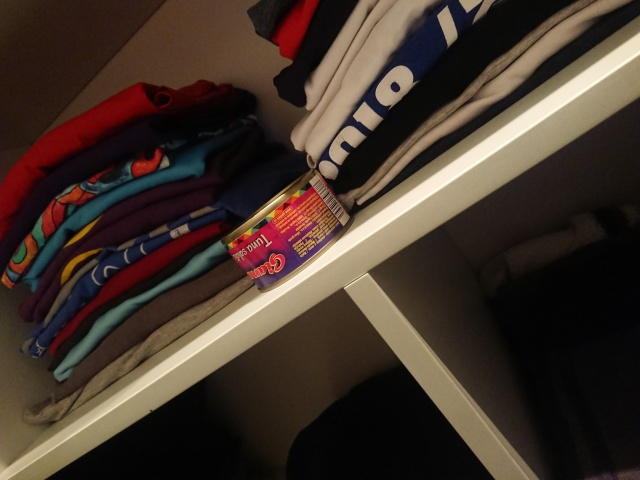Giana Tuna Salad Mexico 185g: (217, 167, 360, 295)
